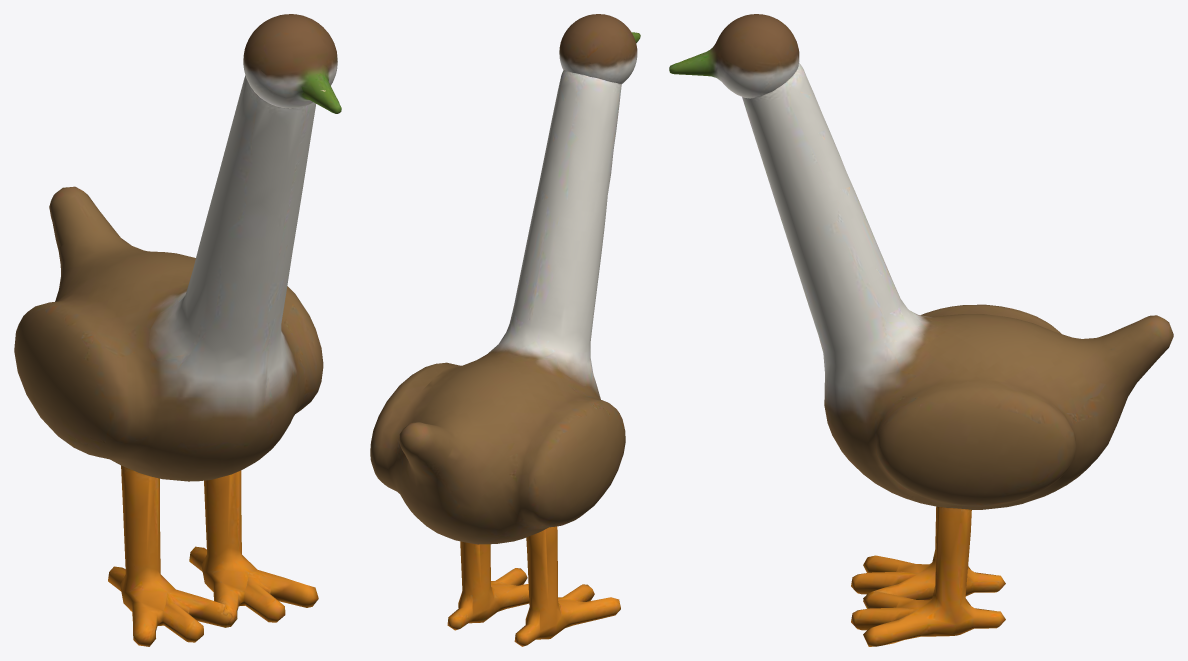
File: animal_indian_runner.glb
The picture shows the model from 3 angles, left to right: view 1: azimuth 30°, elevation 25°; view 2: azimuth 150°, elevation 25°; view 3: azimuth 270°, elevation 25°; orthographic projection. The views are drawn at different scales.
Parts seen in each view (by area): view 1: animal_indian_runner, leg0, leg1, head; view 2: animal_indian_runner, leg0, head, leg1; view 3: animal_indian_runner, leg1, head, leg0.
Part boxes in pixels (left/top/right/bottom): animal_indian_runner: left=14, top=75, right=323, bottom=481; leg0: left=108, top=465, right=237, bottom=646; leg1: left=189, top=470, right=318, bottom=626; head: left=243, top=14, right=341, bottom=113; animal_indian_runner: left=370, top=70, right=625, bottom=544; leg0: left=514, top=526, right=620, bottom=646; head: left=559, top=14, right=640, bottom=84; leg1: left=447, top=541, right=529, bottom=630; animal_indian_runner: left=742, top=62, right=1173, bottom=509; leg1: left=851, top=506, right=1005, bottom=646; head: left=669, top=14, right=799, bottom=98; leg0: left=851, top=506, right=1005, bottom=608.
Size of the model in its own units: 0.153 by 0.3975 by 0.3029.
Materials: 1 (1 with a texture image).
